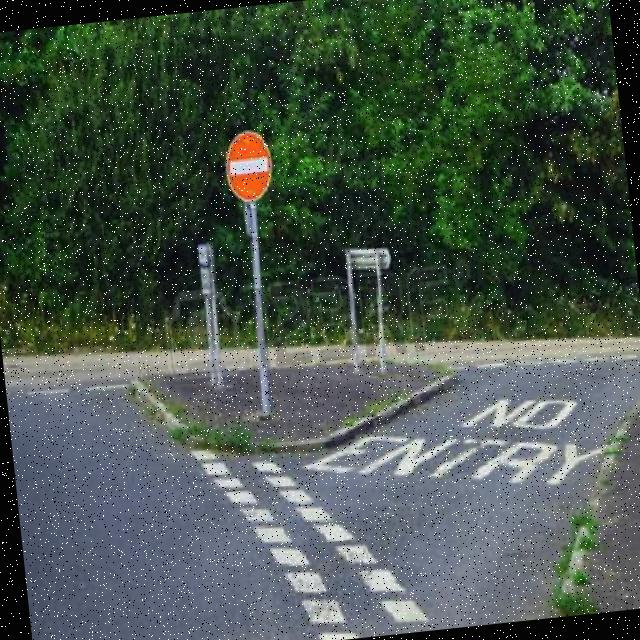Zakaz wjazdu: (218, 123, 278, 204)
